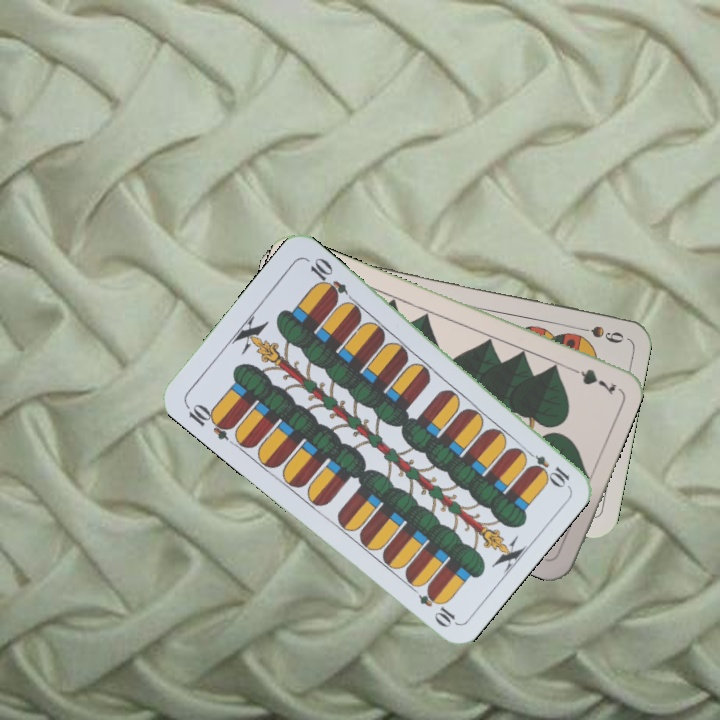E10: (181, 399, 236, 443), (519, 445, 573, 489)
G7: (562, 362, 619, 398)
S9: (568, 322, 626, 346)
